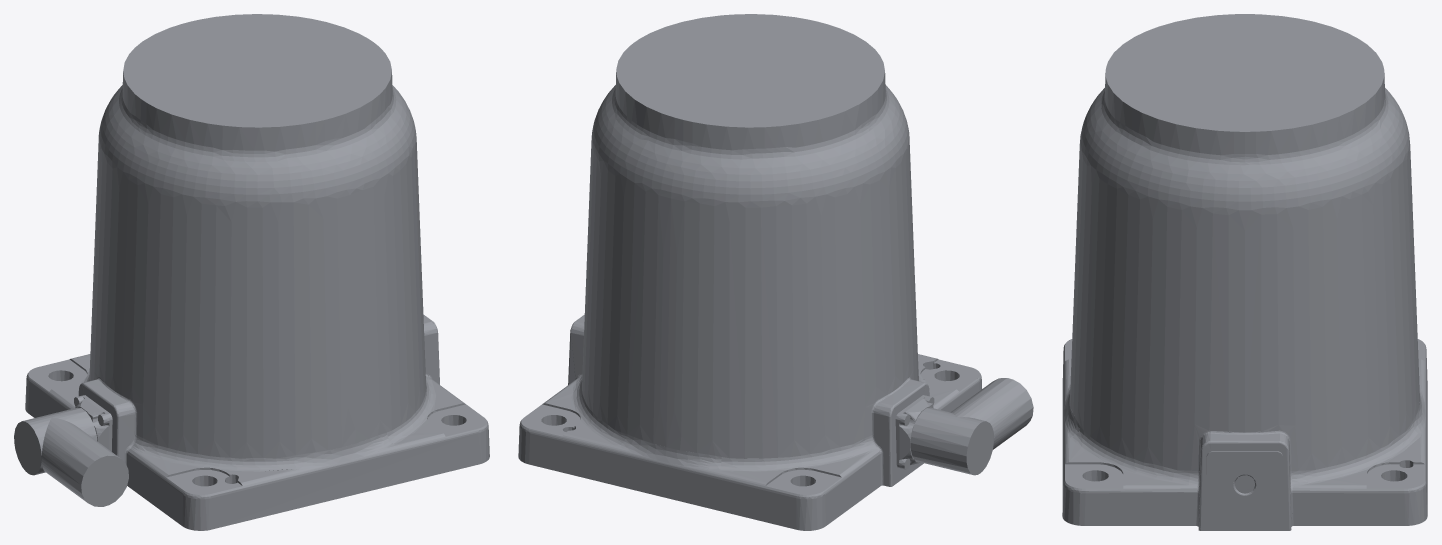
3 views of the same model, side by side, from view 1: azimuth 30°, elevation 25°; view 2: azimuth 150°, elevation 25°; view 3: azimuth 270°, elevation 25° (orthographic). The views are drawn at different scales.
Visible parts, largest first — view 1: Base_Link; view 2: Base_Link; view 3: Base_Link.
Part boxes in pixels (x1,y1,x2,y2): Base_Link: (14, 14, 489, 530); Base_Link: (518, 14, 1033, 530); Base_Link: (1062, 14, 1427, 530).
Size of the model in its own units: 0.2129 by 0.1875 by 0.165.
Materials: 1 (1 with a texture image).
